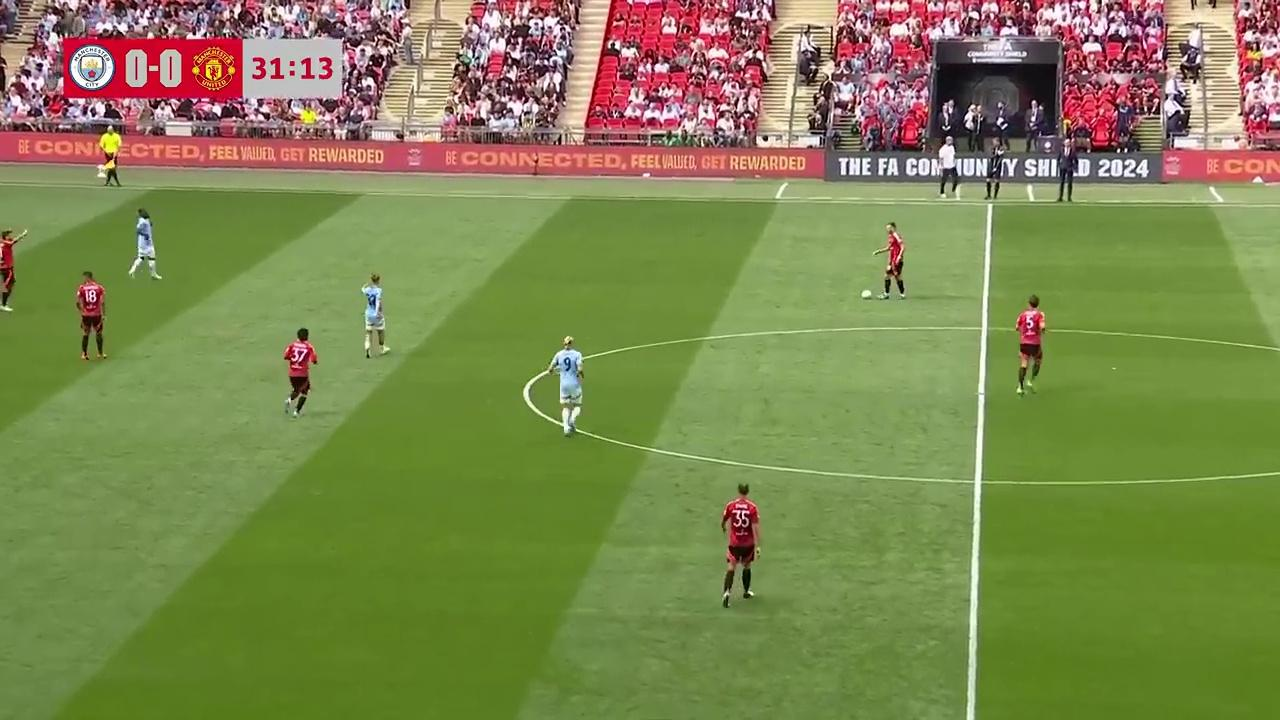ball: (860, 286, 872, 300)
player: (719, 483, 761, 606), (1015, 295, 1047, 396), (283, 327, 318, 417), (553, 339, 584, 433), (75, 271, 106, 362), (127, 208, 162, 281), (361, 273, 391, 358), (874, 221, 906, 298), (0, 227, 26, 312)
referee: (98, 129, 122, 187)
